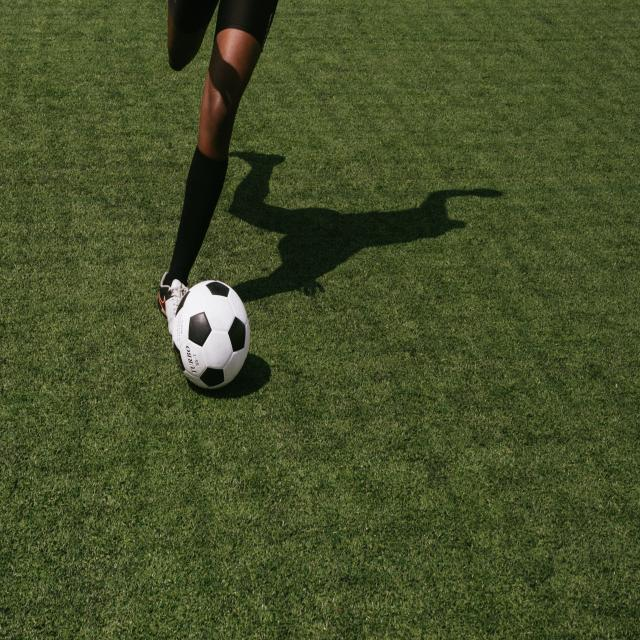ball: (173, 278, 250, 391)
